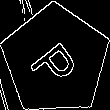P_NE: (26, 30, 85, 91)
